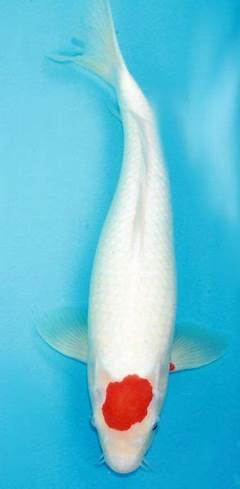sun: (34, 1, 224, 474)
